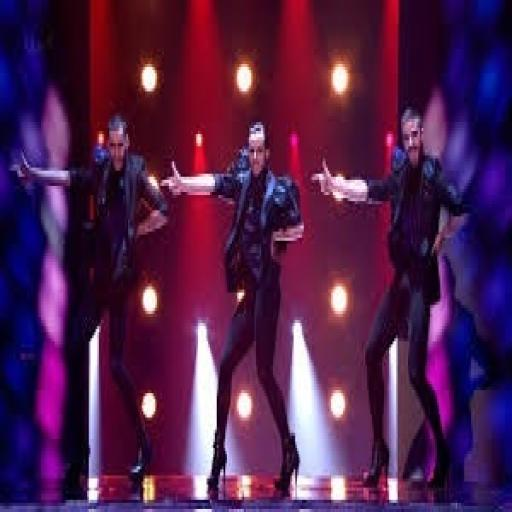dancing: (309, 100, 471, 494), (12, 106, 172, 496), (159, 116, 307, 500)
